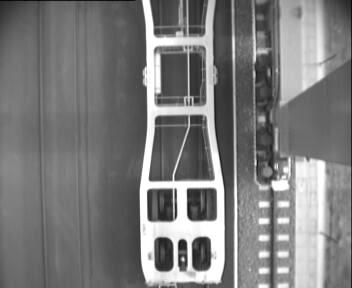Copy of Copy of Copy of Copy of wagon_scan: (151, 233, 215, 276)
